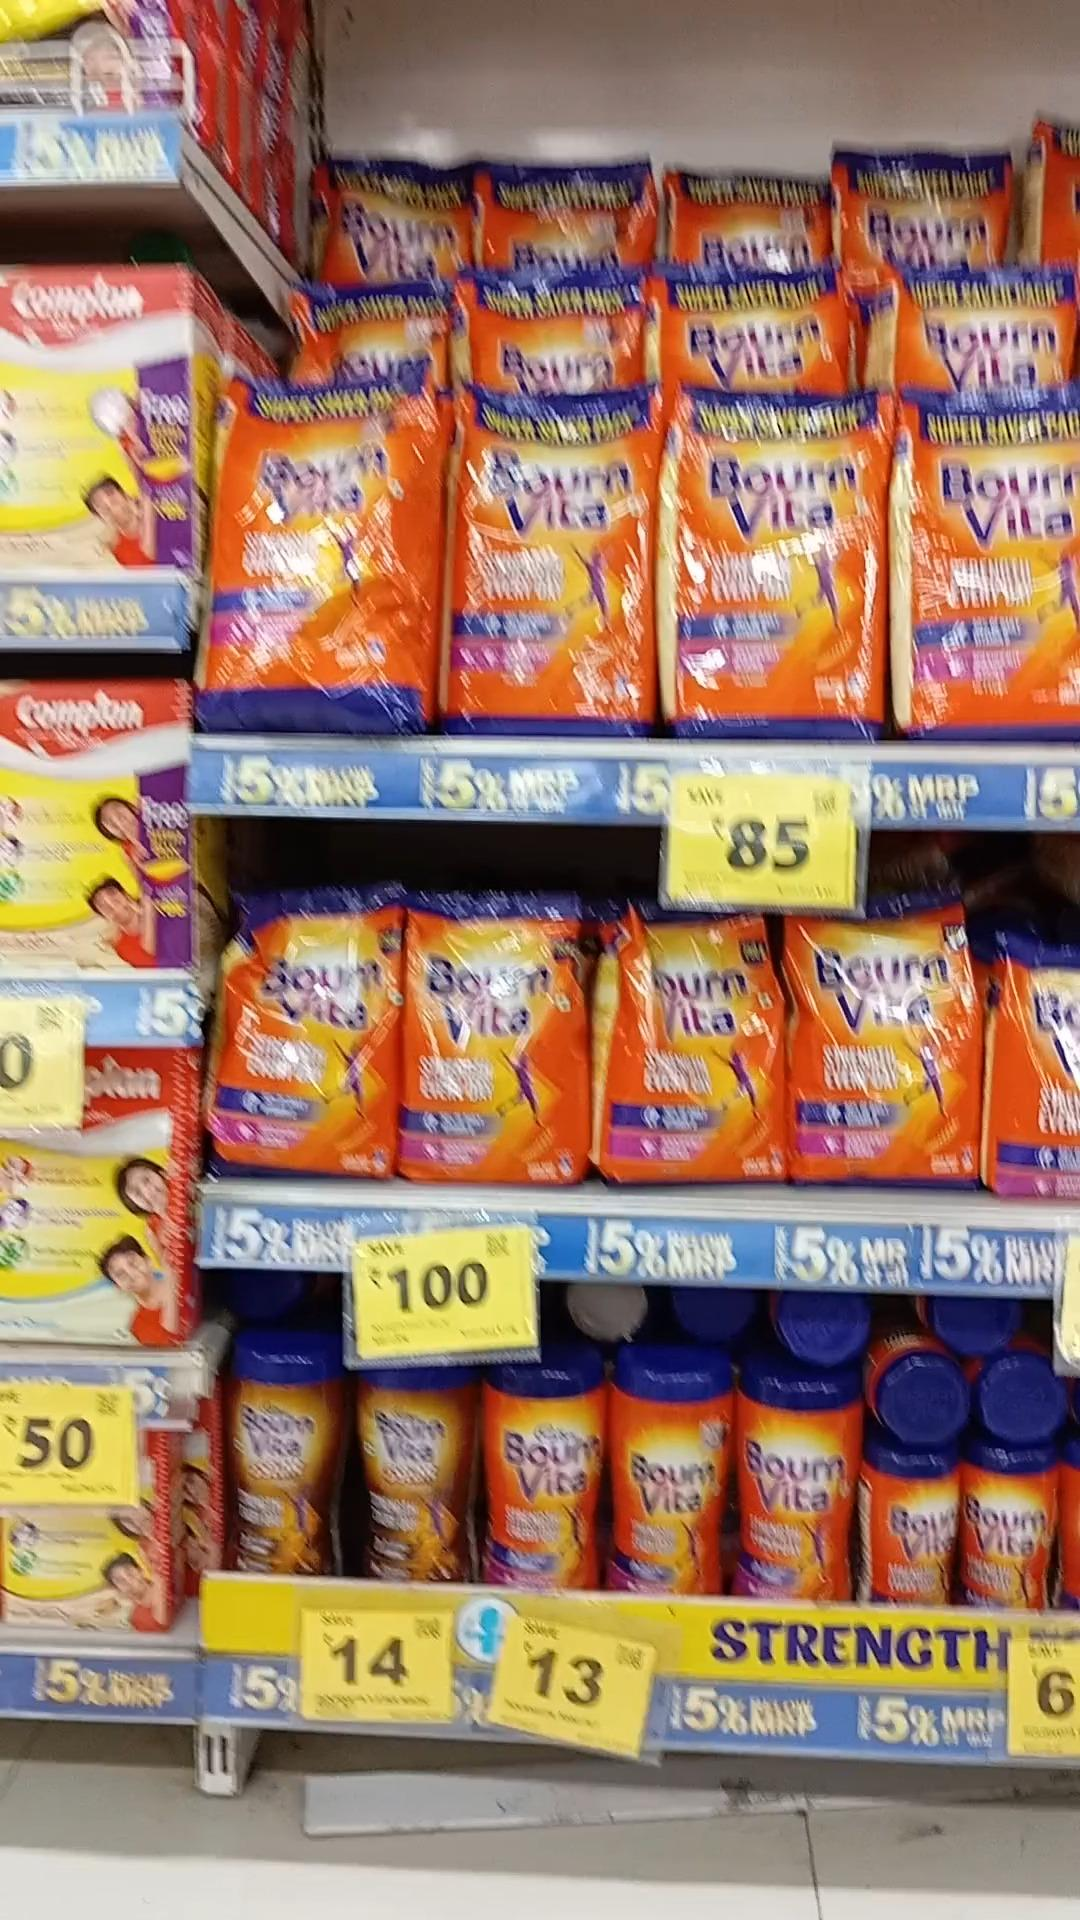BOURN_VITA_1_KG_POUCH: (202, 372, 431, 731), (663, 394, 885, 737), (446, 386, 650, 737), (894, 392, 1080, 736)
BOURN_VITA_200_G_JAR: (959, 1439, 1055, 1613), (868, 1443, 955, 1609)
BOURN_VITA_500_G_JAR: (736, 1362, 861, 1598), (613, 1349, 732, 1590), (485, 1353, 607, 1589)
BOURN_VITA_750_G_POUCH: (789, 909, 988, 1195), (401, 893, 592, 1179), (202, 891, 390, 1174), (597, 913, 779, 1180)
BOURN_VITA_FIVE_STAR_MAGIC_500_G_JAR: (229, 1344, 347, 1571), (360, 1369, 481, 1580)
COMPLAN_CREAMY_CLASSIC_500_G_PACK: (0, 1120, 183, 1340)
COMPLAN_KESAR_BADAM_200_GMS_PACK: (0, 265, 194, 582), (4, 683, 183, 975), (1, 1497, 177, 1635)
